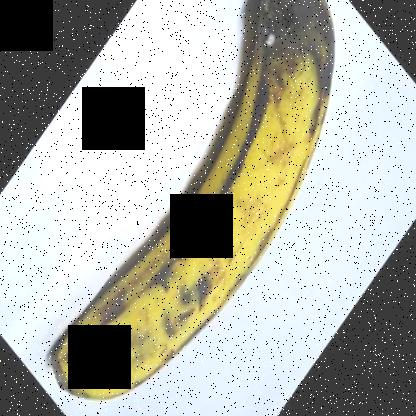overripe: (46, 0, 346, 407)
rotten: (226, 0, 349, 111)
